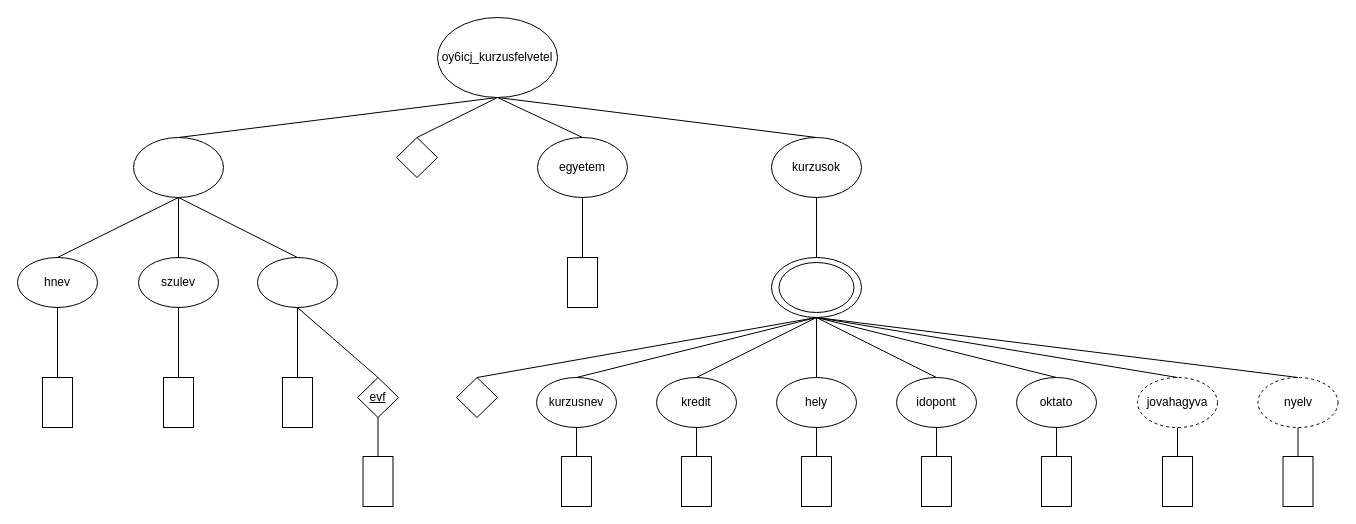
Some shapes in this 1356 by 524 pixel diagram are drawn without their labels. Each missing label, with the centre of its shape:
"hallgato" belongs at pixel 178 167.
"id" belongs at pixel 477 397.
"kurzus" belongs at pixel 816 287.
"szak" belongs at pixel 297 282.
"tanev" belongs at pixel 417 157.
